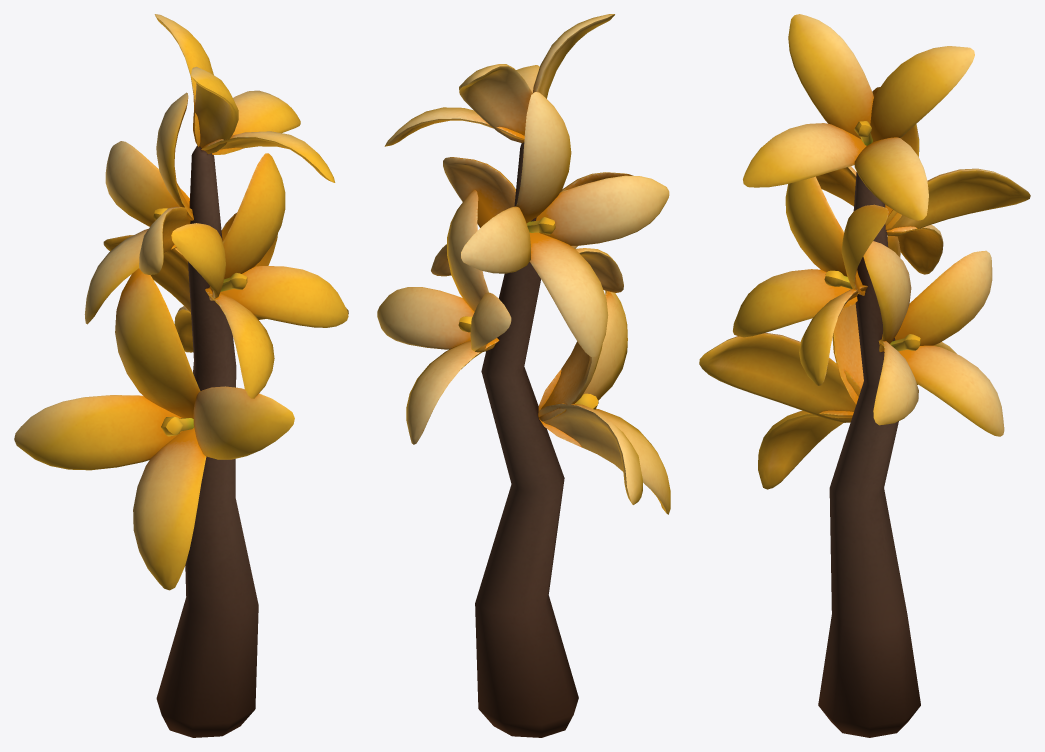
Rendered from Forsythia.fbx.
The picture shows the model from 3 angles, left to right: view 1: azimuth 30°, elevation 25°; view 2: azimuth 150°, elevation 25°; view 3: azimuth 270°, elevation 25°; orthographic projection.
Parts seen in each view (by area): view 1: Forsythia; view 2: Forsythia; view 3: Forsythia.
Part boxes in pixels (x1,y1,x2,y2): Forsythia: [14, 14, 348, 737]; Forsythia: [377, 14, 670, 737]; Forsythia: [699, 14, 1030, 737].
Size of the model in its own units: 27.68 by 61.66 by 27.04.
